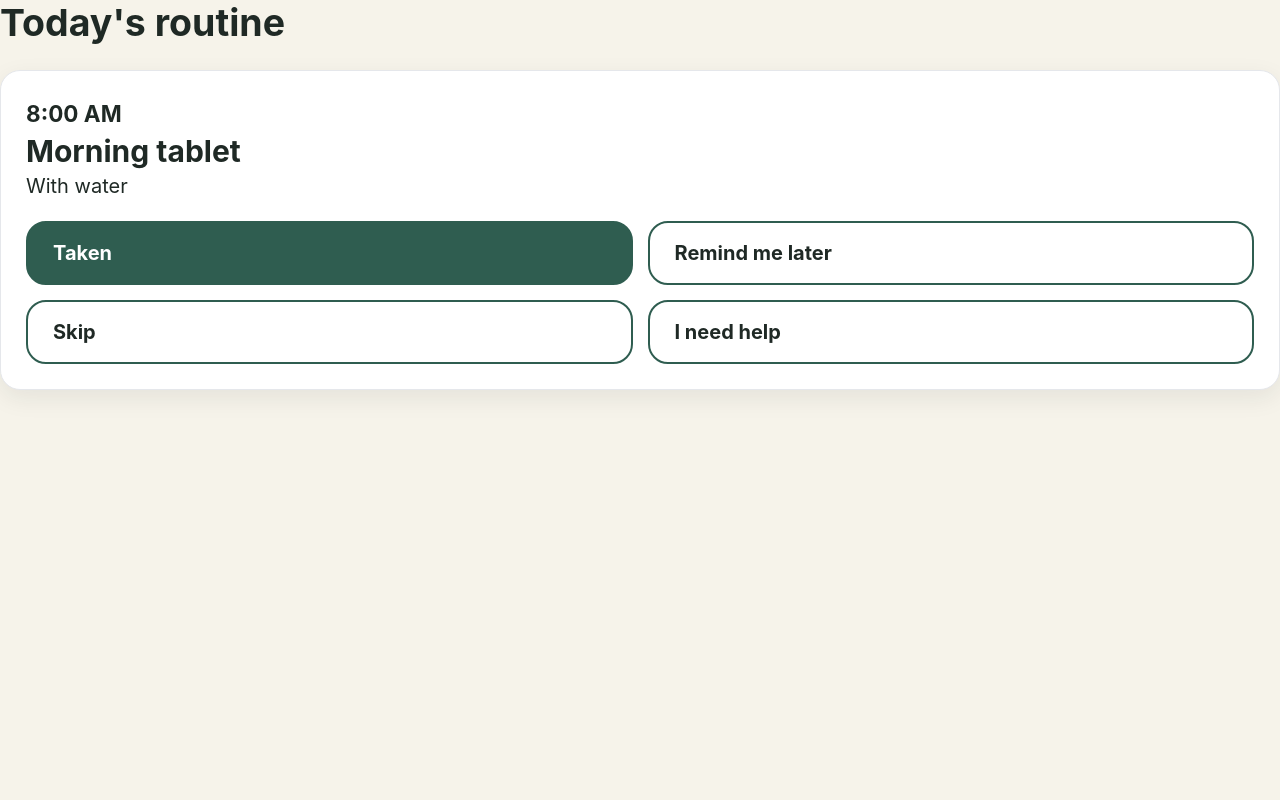
Test: RoutinePage › confirms a medicine skip
Click the button "Skip": (74, 332) [26,300,632,364]
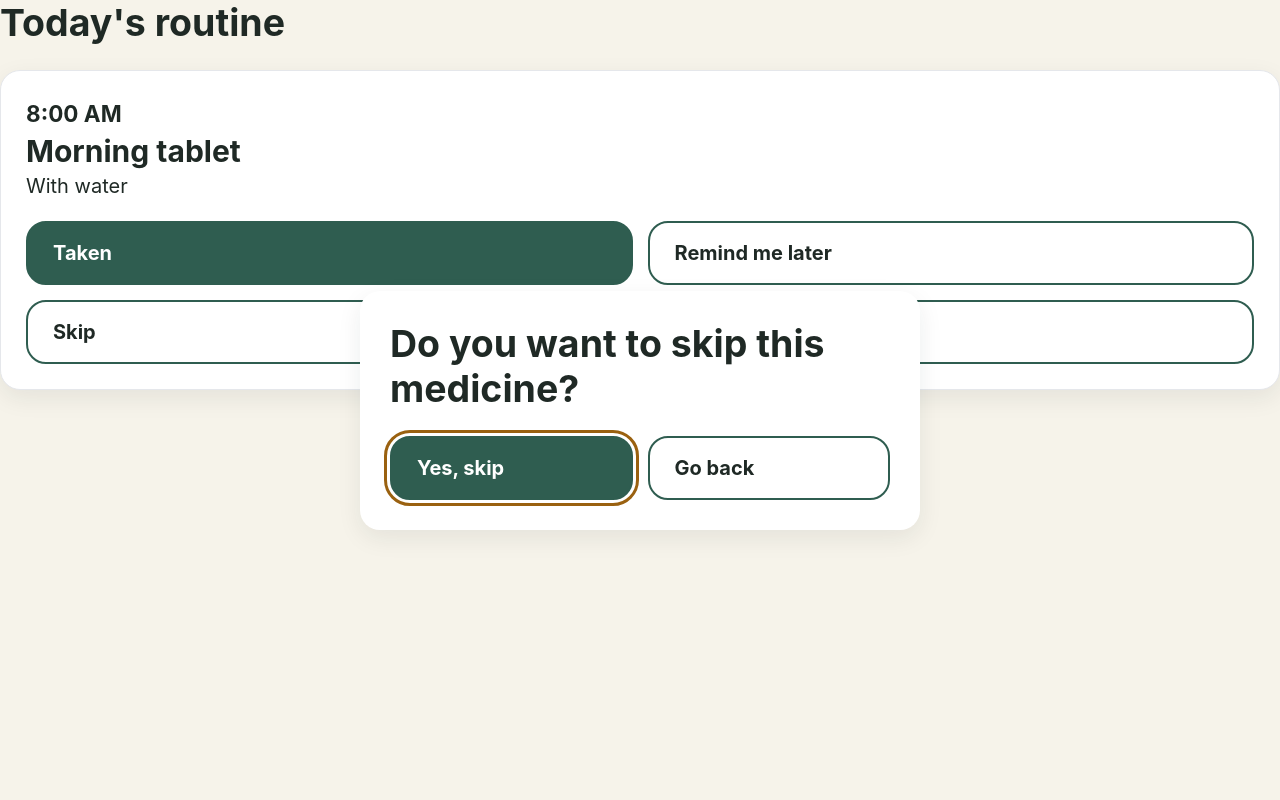
Check: the dialog is shown, box [360,290,920,530]
